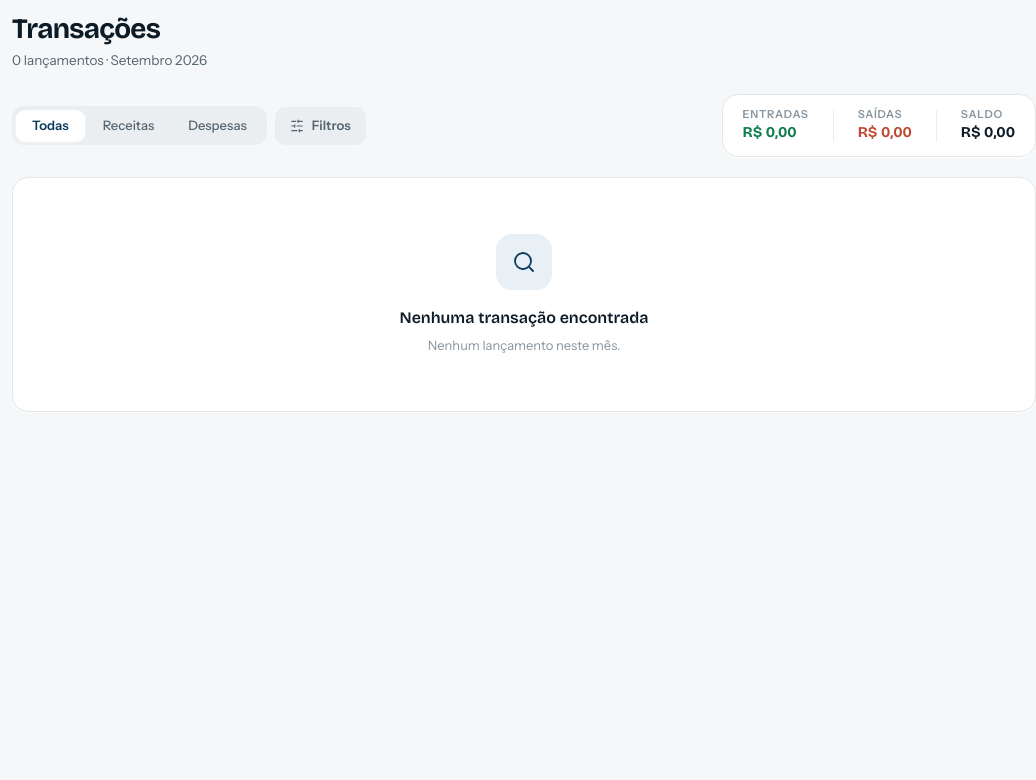
Test: Transactions › type filter clears incompatible category and shows optgroups
Check: the heading "Transações" is shown, box top-left (12, 12), bottom-right (160, 46)
Click the button "Filtros" at (320, 126), box top-left (275, 106), bottom-right (366, 144)
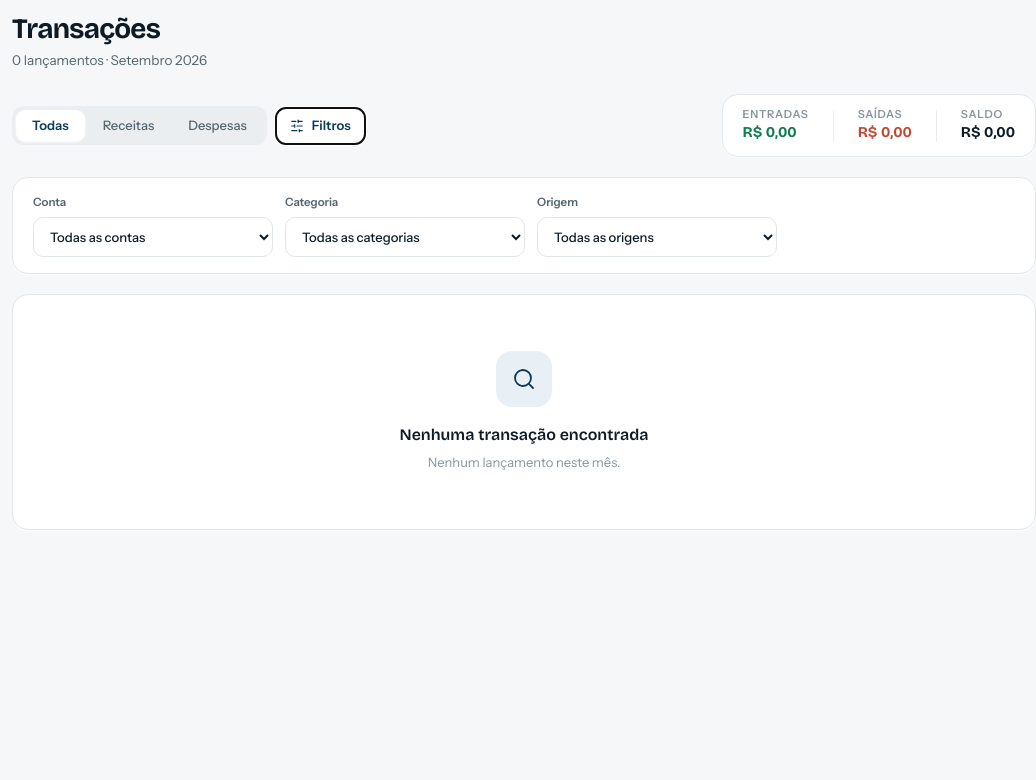
Select "Alimentação" in the dropdown labelled "Categoria" at (405, 237), box top-left (285, 217), bottom-right (525, 257)
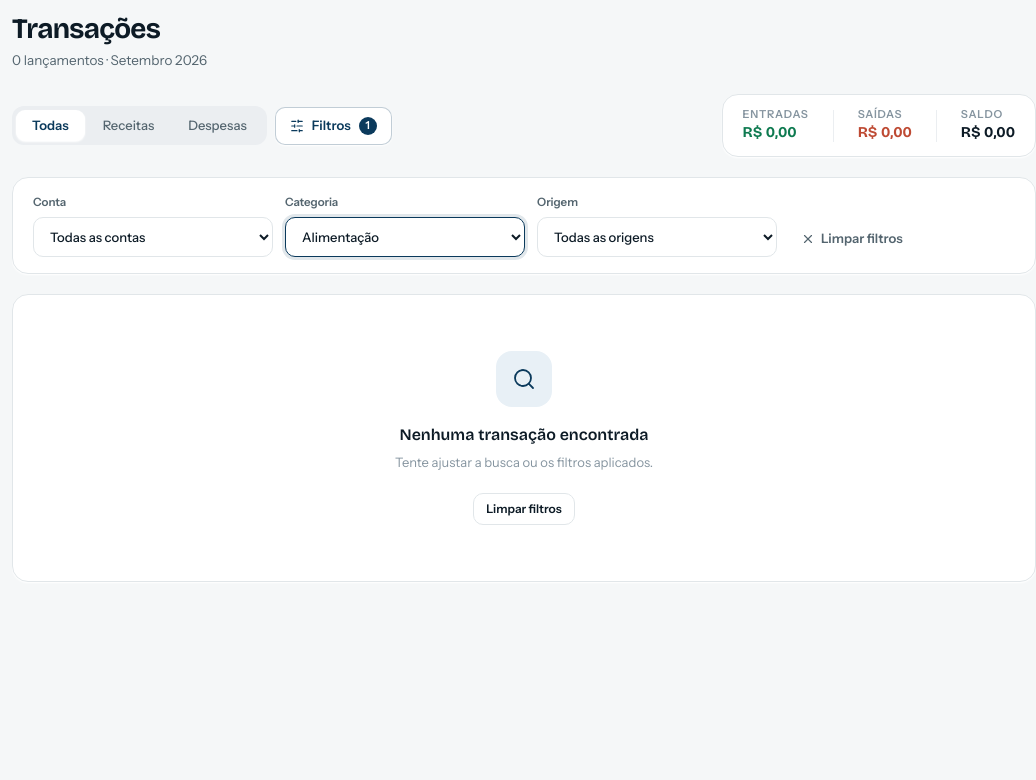
Click the button "Receitas" at (128, 126), box top-left (87, 110), bottom-right (170, 141)
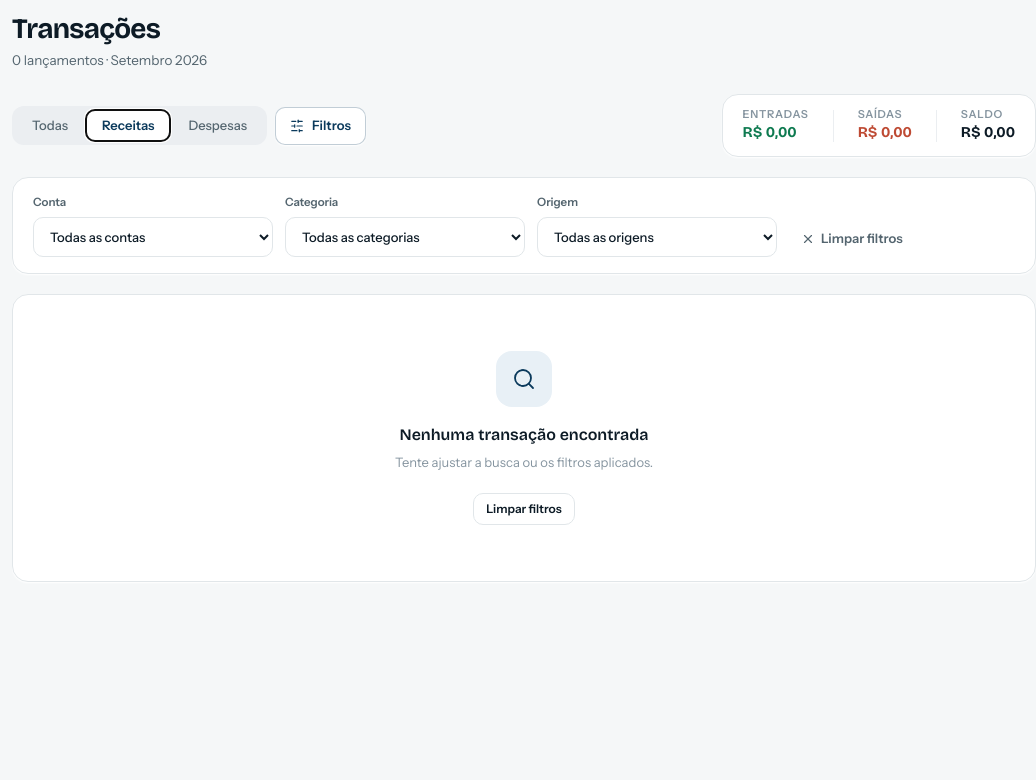
Click the button "Todas" at (50, 126), box top-left (16, 110), bottom-right (84, 141)
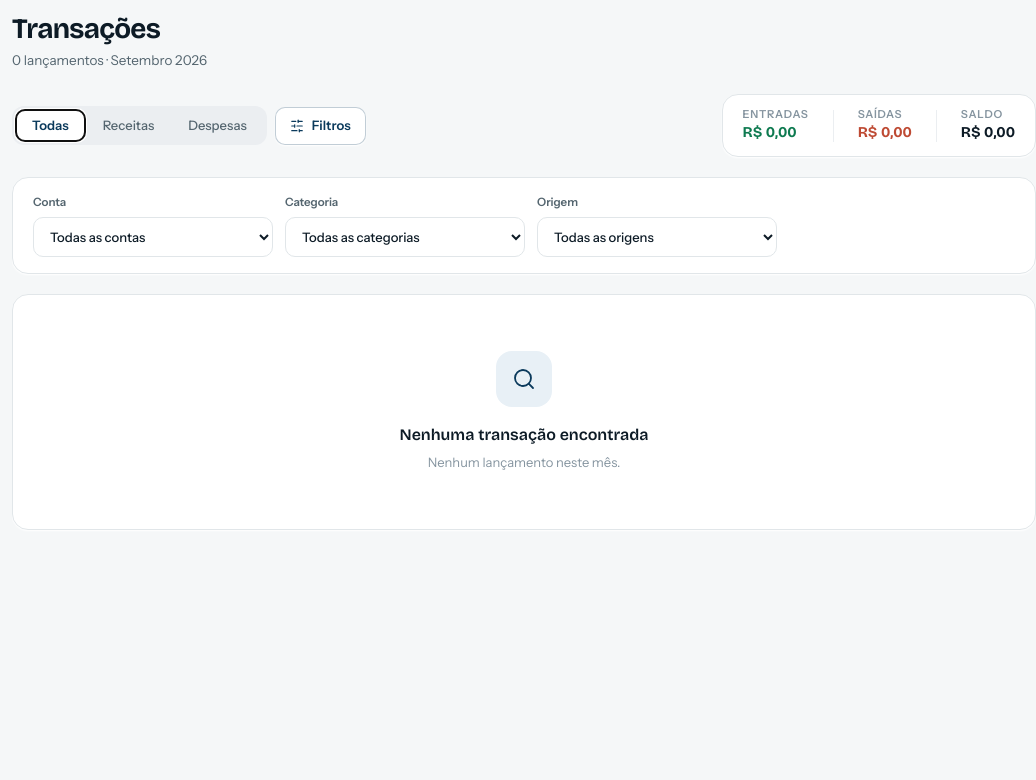
Select "Parcelas" in the dropdown labelled "Origem" at (657, 237), box top-left (537, 217), bottom-right (777, 257)
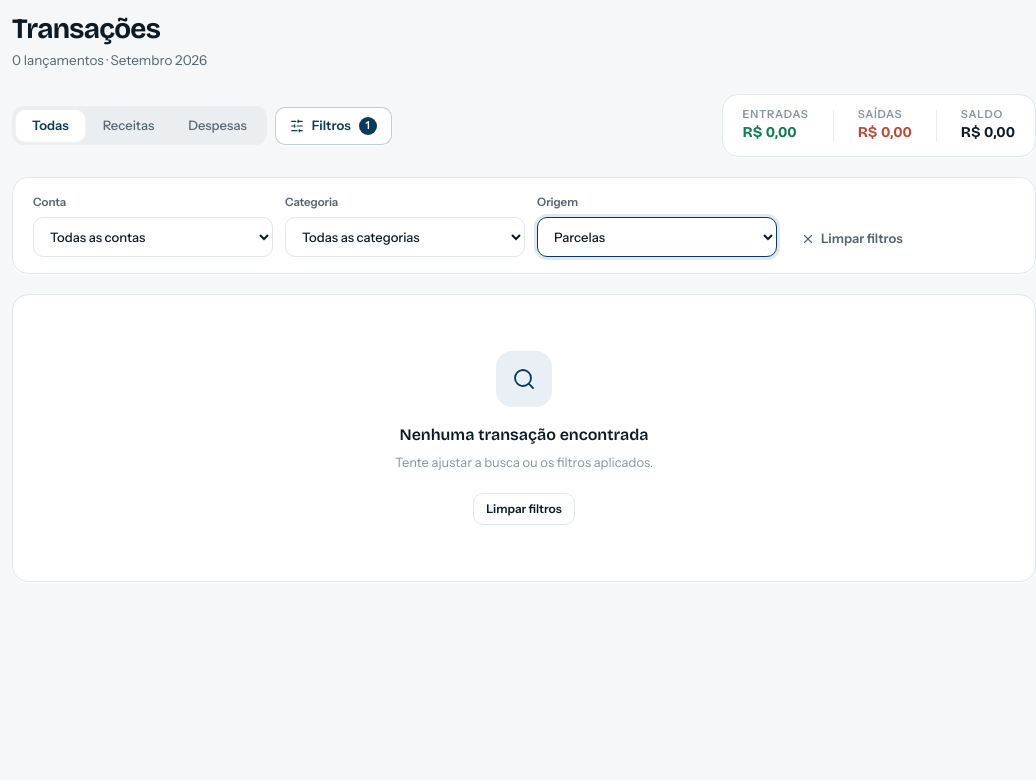
Check: the text "1" is shown, box top-left (359, 116), bottom-right (377, 134)
